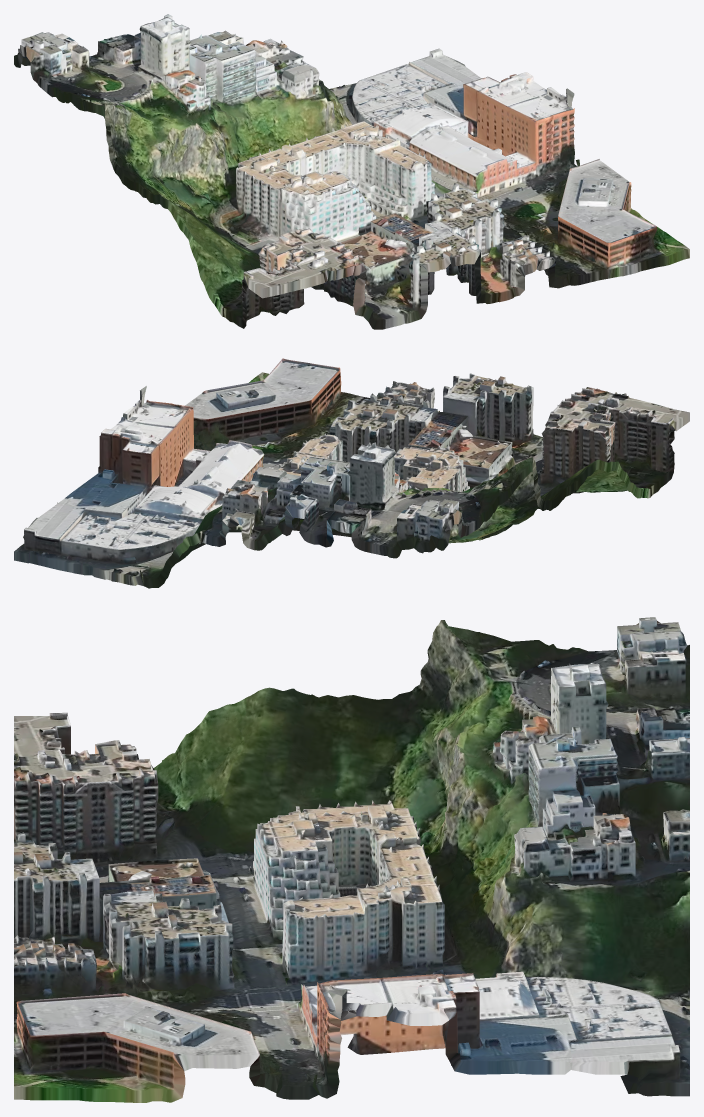
Rendered from z17-20969-50648-h0-yup-uvflip-v3-world.glb.
The picture shows the model from 3 angles, top to bottom: view 1: azimuth 30°, elevation 25°; view 2: azimuth 150°, elevation 25°; view 3: azimuth 270°, elevation 25°; orthographic projection. The views are drawn at different scales.
Bounding box in the file's own units: 241 × 90.56 × 243.
Materials: 1 (1 with a texture image).
